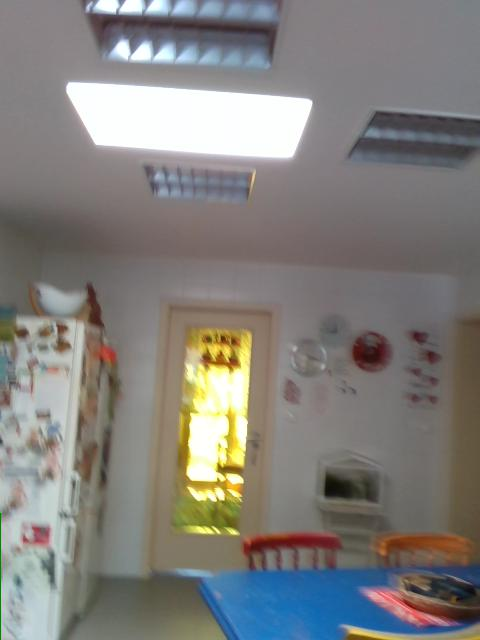door: (139, 300, 282, 576)
